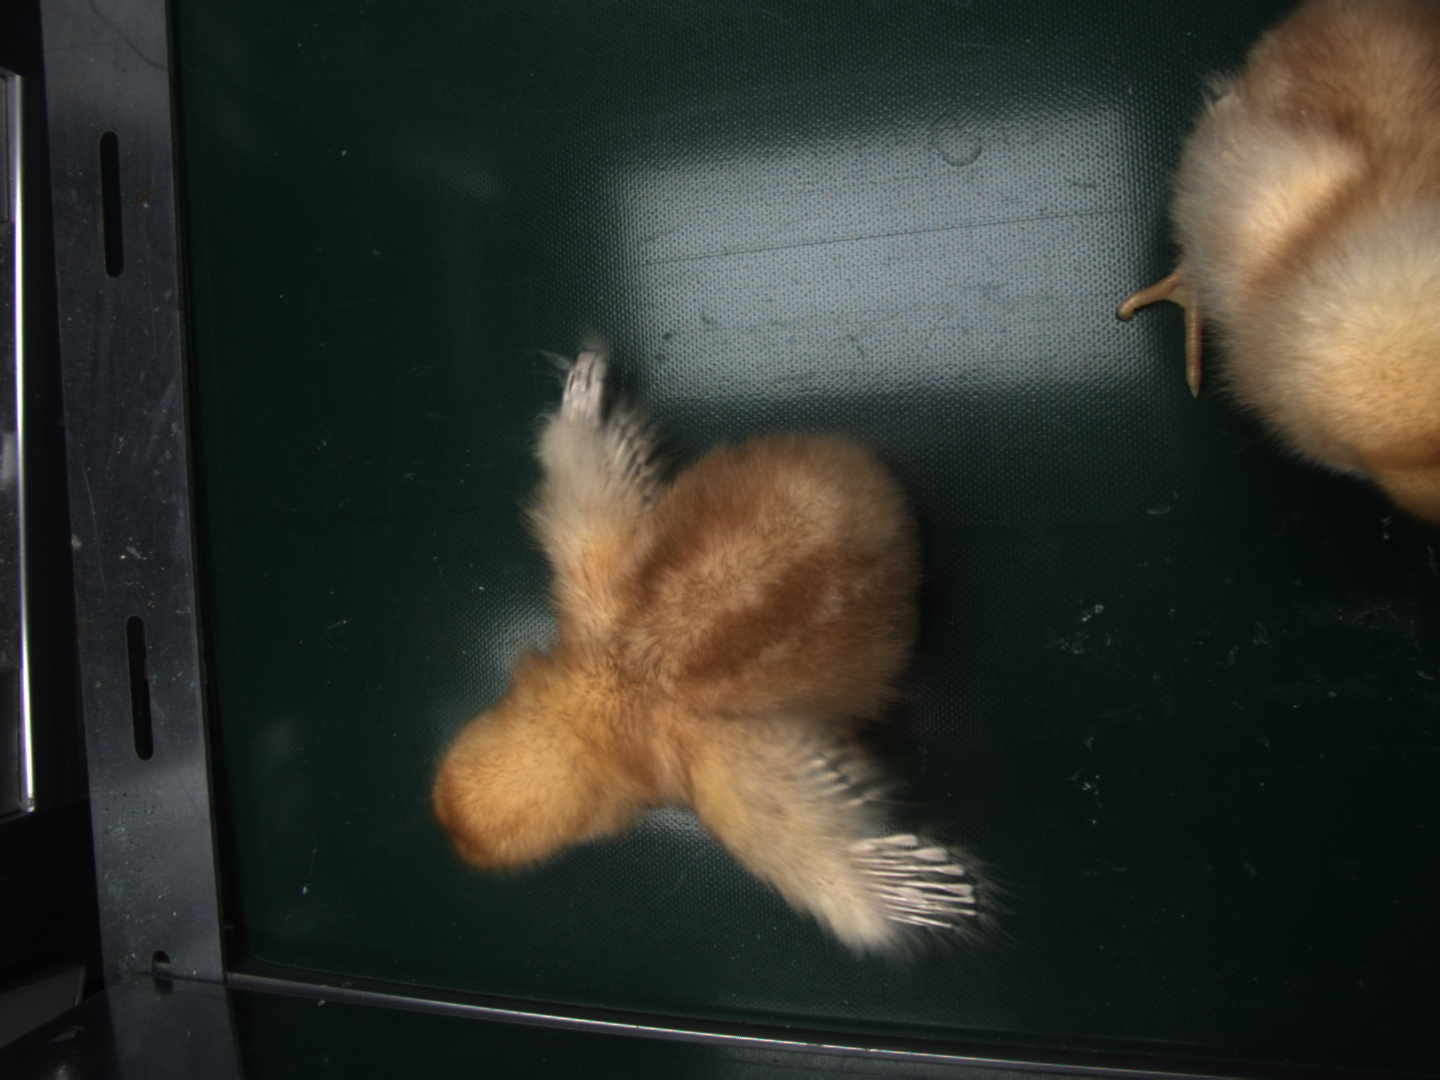female: (862, 838, 974, 936)
